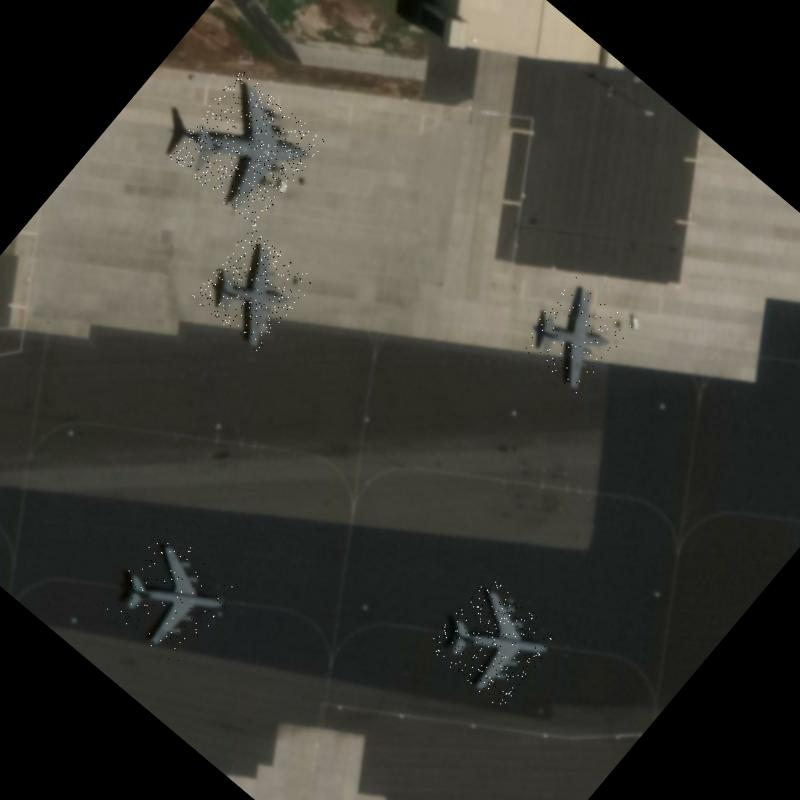A14: (100, 526, 240, 666), (424, 572, 562, 709)
A2: (190, 226, 316, 353), (516, 272, 636, 394)
A3: (166, 68, 326, 228)
